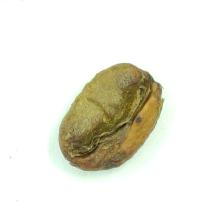NG: (61, 75, 117, 171), (103, 62, 153, 162)
